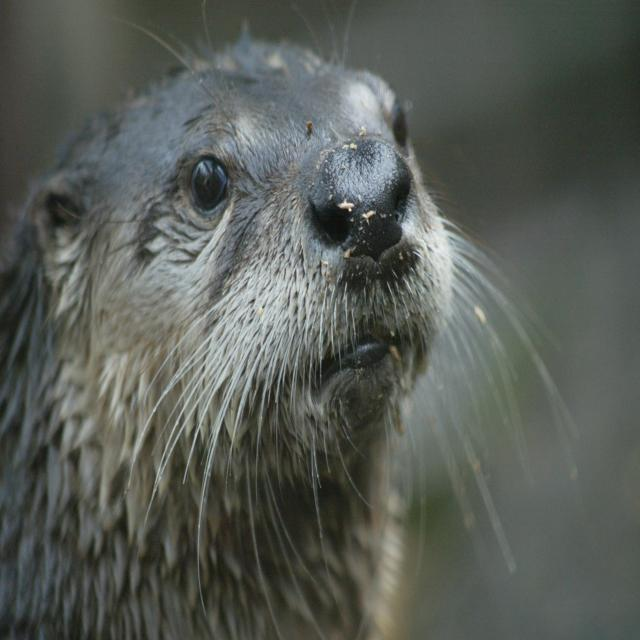otter: (1, 41, 445, 640)
